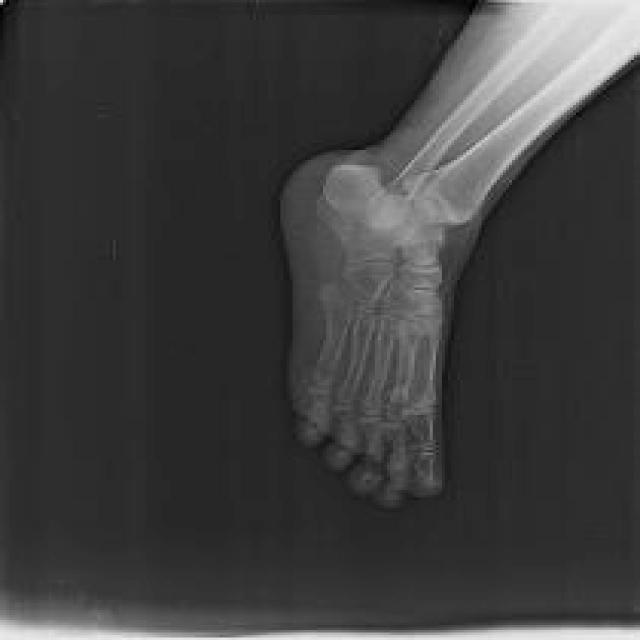normal: (309, 0, 639, 507)
